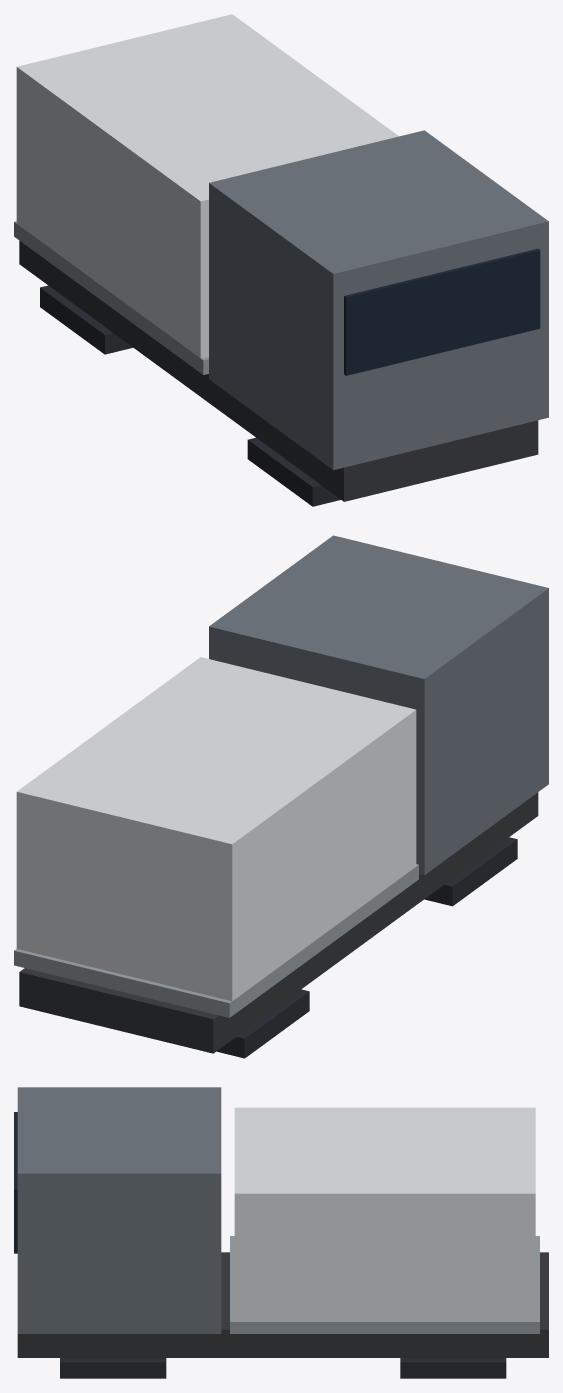
File: veh_ground_truck_a10.glb
3 views of the same model, one above another, from view 1: azimuth 30°, elevation 25°; view 2: azimuth 150°, elevation 25°; view 3: azimuth 270°, elevation 25° (orthographic). The views are drawn at different scales.
Parts seen in each view (by area): view 1: body; view 2: body; view 3: body.
Boxes of the visible parts, x1=… form: body: x1=14, y1=14, x2=548, y2=506; body: x1=14, y1=535, x2=548, y2=1058; body: x1=14, y1=1087, x2=548, y2=1378.
Size of what is drawn, in the model's own units: 2.3 by 2.64 by 6.04.
